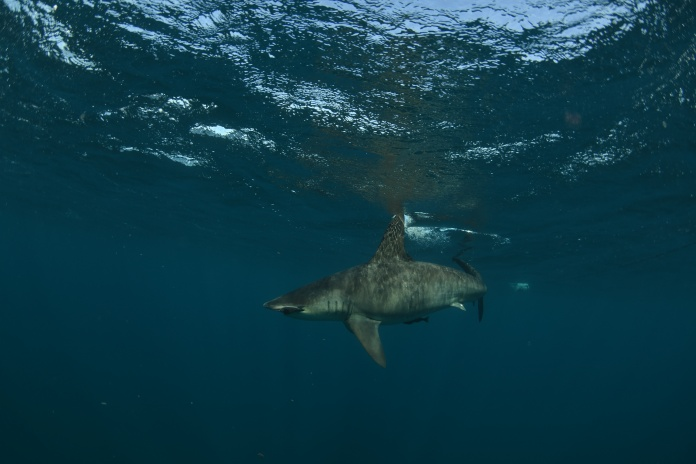Hammer: (222, 196, 509, 370)
